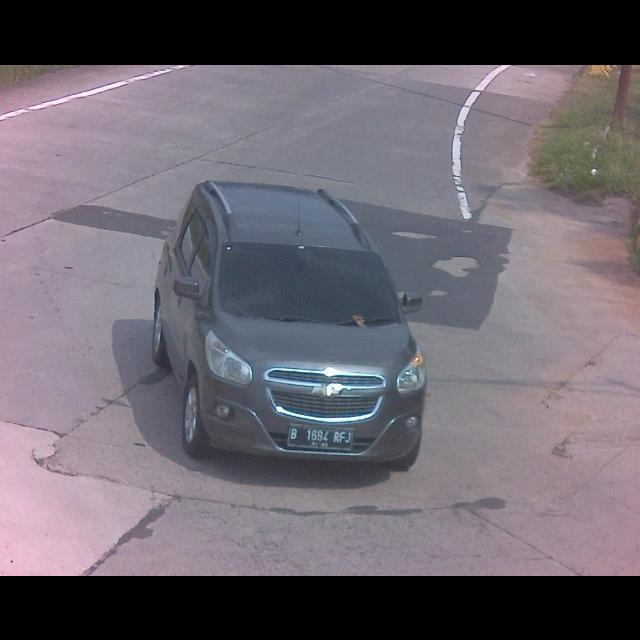plate: (285, 422, 353, 450)
